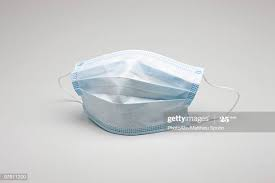flumask: (75, 55, 194, 133)
